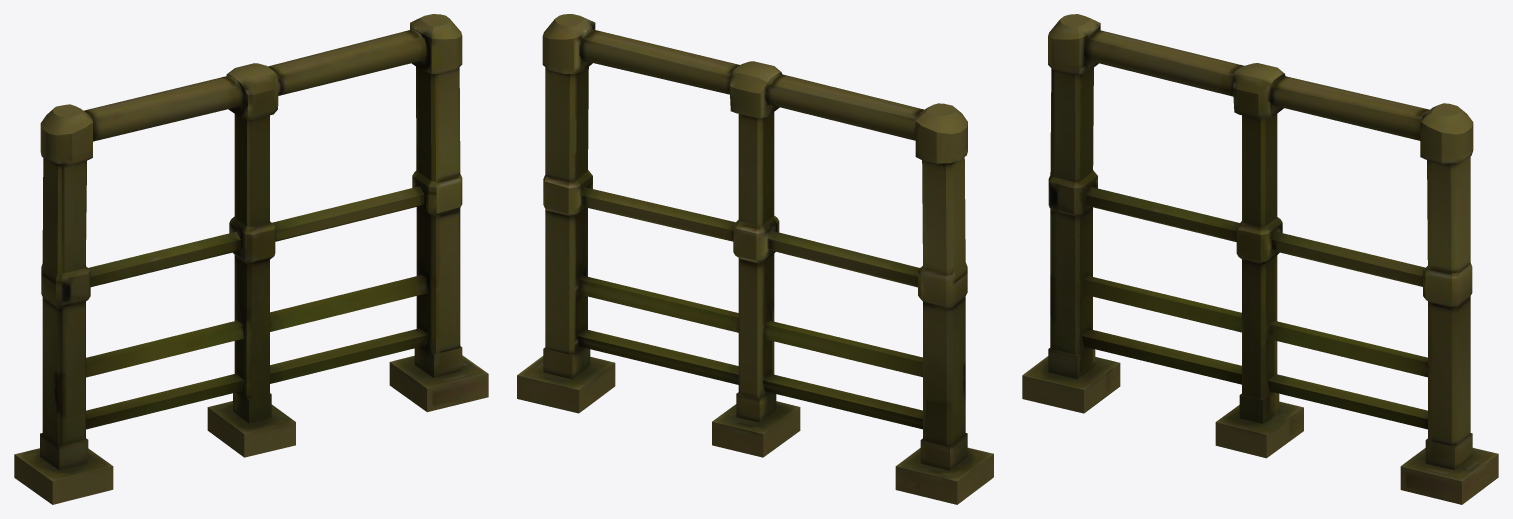
The model's file is sewer_safety_railing.fbx.
3 renders of one model, left to right at view 1: azimuth 30°, elevation 25°; view 2: azimuth 150°, elevation 25°; view 3: azimuth 330°, elevation 25°, orthographic.
Visible parts, largest first — view 1: sewer_safety_railing; view 2: sewer_safety_railing; view 3: sewer_safety_railing.
Boxes of the visible parts, left/top/right/bottom form: sewer_safety_railing: left=14, top=14, right=488, bottom=504; sewer_safety_railing: left=517, top=14, right=993, bottom=504; sewer_safety_railing: left=1022, top=14, right=1498, bottom=504.
Bounding box in the file's own units: 145 × 118 × 22.17.
